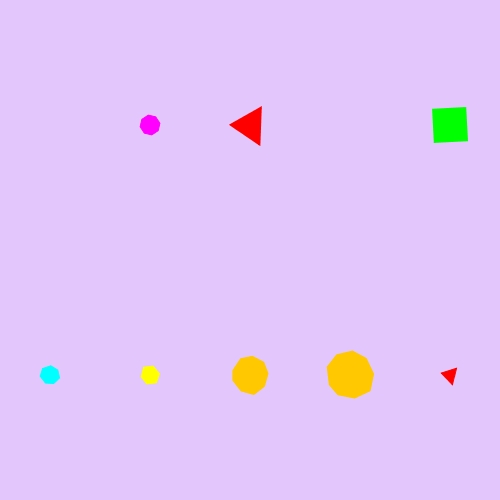heptagon: (36, 361, 65, 389)
hexagon: (135, 362, 165, 388)
nonagon: (322, 348, 378, 402), (227, 353, 273, 397)
octagon: (135, 110, 165, 140)
quadrilateral: (423, 98, 478, 153)
triangle: (229, 103, 271, 147), (438, 362, 463, 388)
